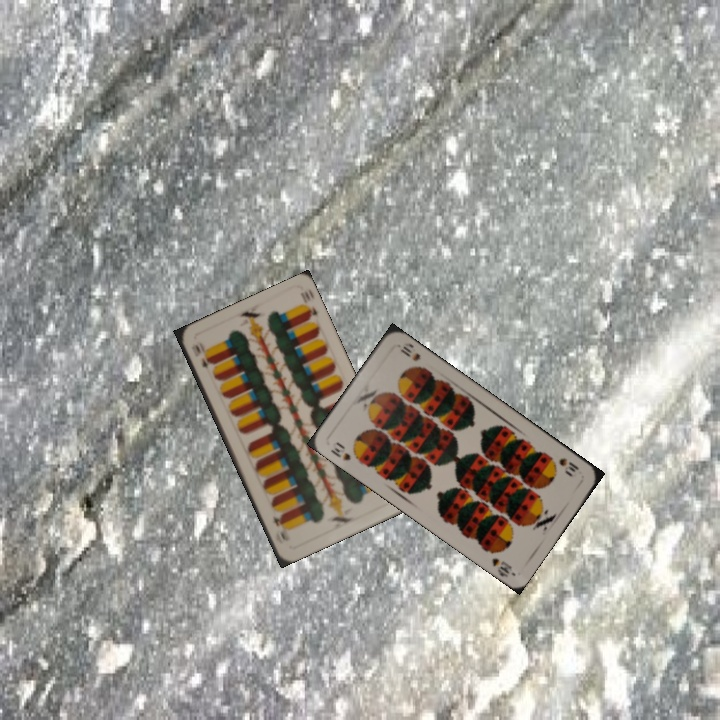E10: (187, 340, 213, 371)
S10: (327, 438, 363, 464), (555, 454, 582, 480)
